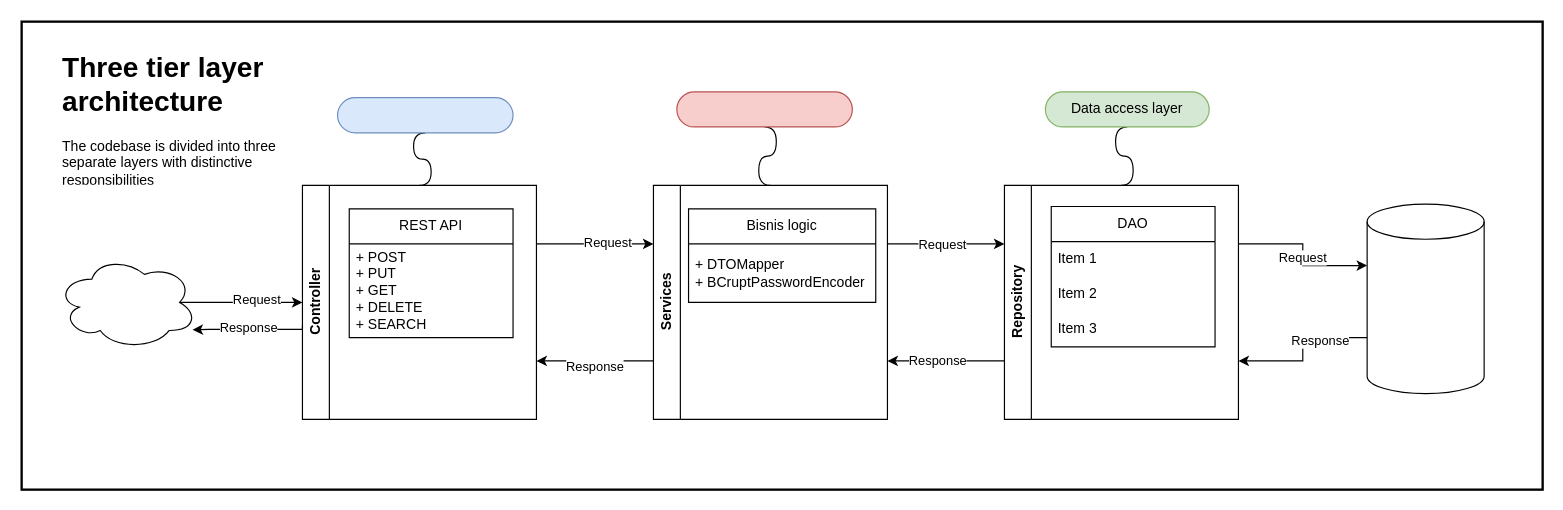
Some shapes in this 1563 by 510 pixel diagram are drawn without their labels. Here are the shapes that lost their labels. From the top down, the centre of each, then its label:
[424,115]: Presentation layer
[764,109]: Business logic layer
[126,301]: Front end
